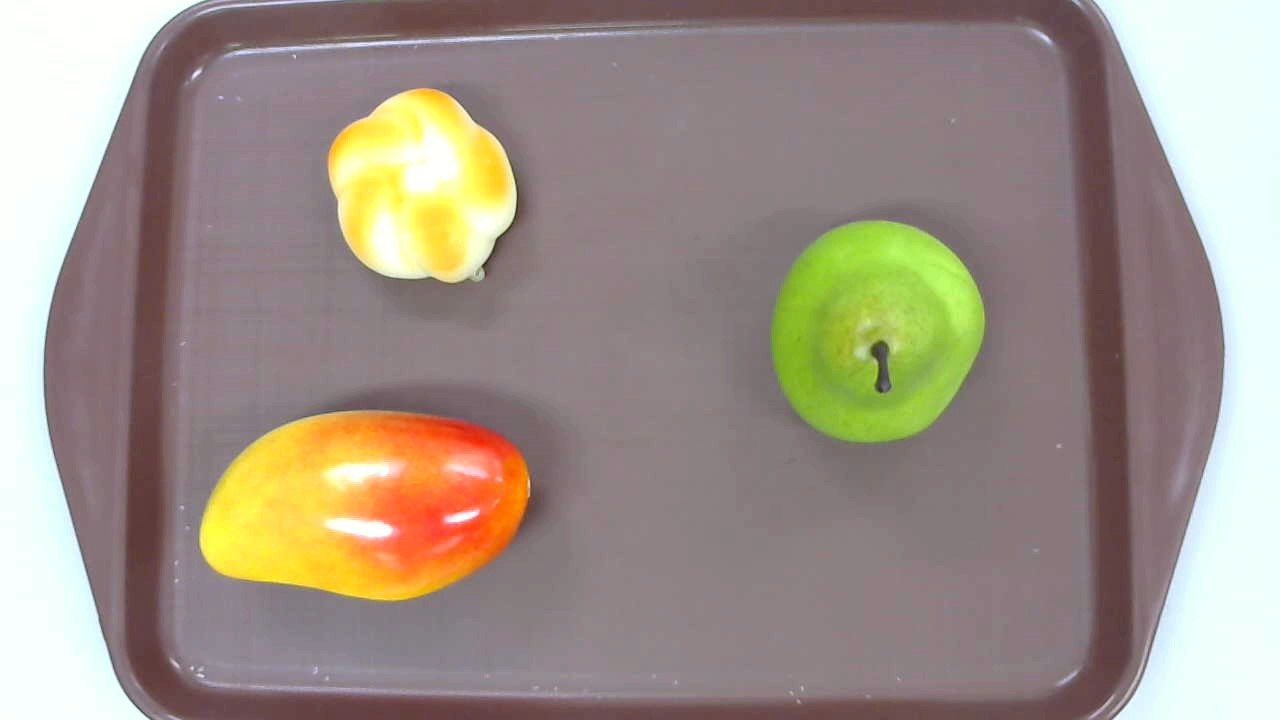green pear: (770, 220, 985, 443)
red mango: (199, 409, 530, 603)
twist bread: (326, 88, 519, 284)
